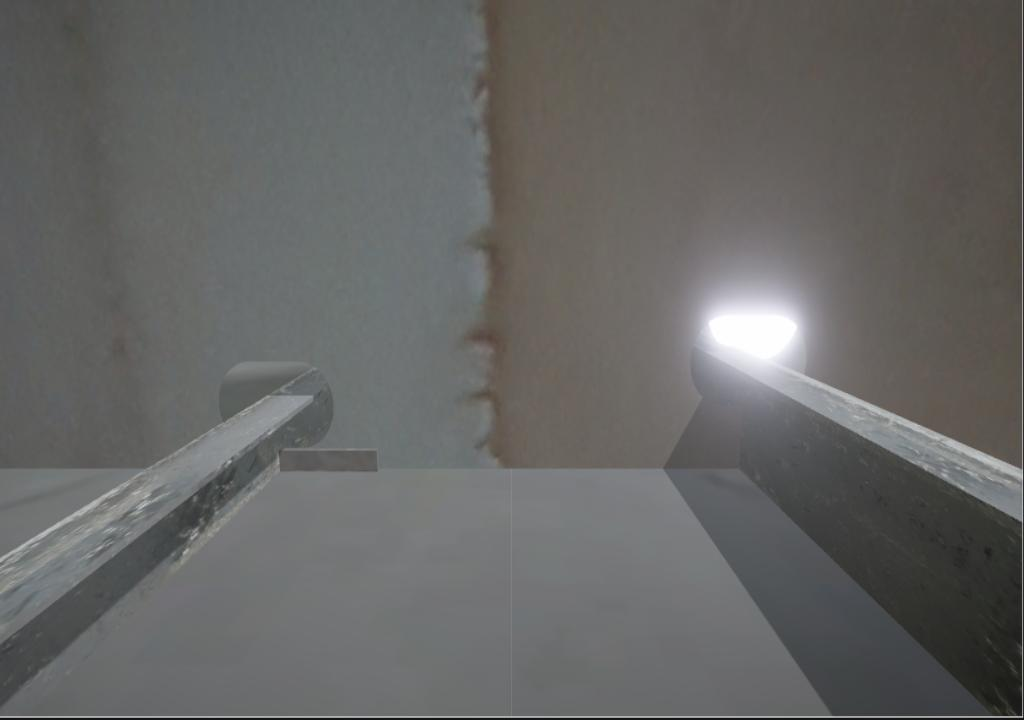fillet_yong_jeop_jang: (377, 463, 745, 475)
longi_yong_jeop_jang: (734, 400, 747, 474)
plate_CP01: (278, 448, 378, 473)
